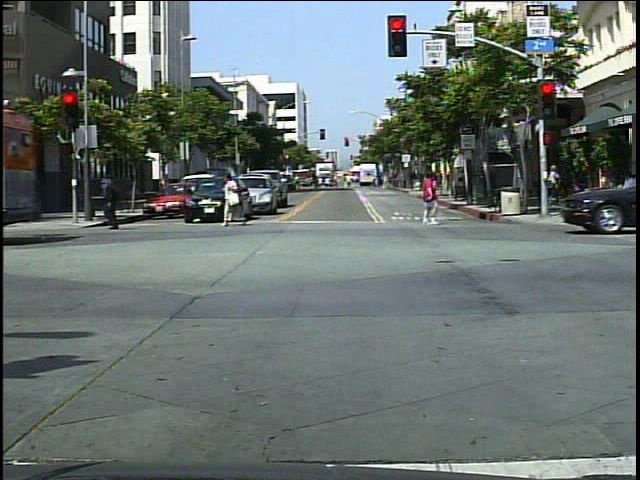person: (220, 166, 251, 230), (415, 166, 444, 232), (100, 169, 127, 233), (545, 160, 567, 211)
